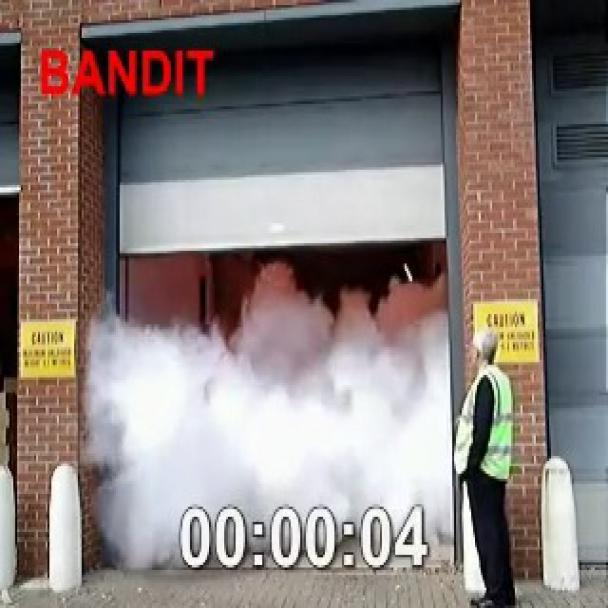smoke: (63, 220, 477, 572)
